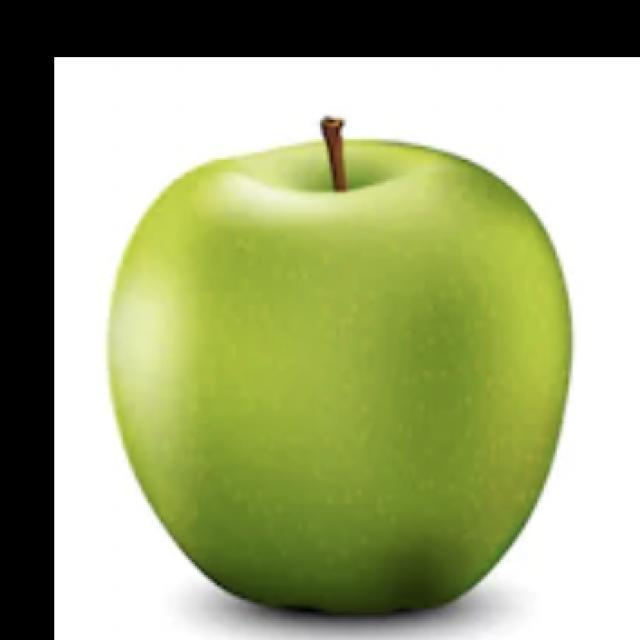Fresh Apple: (134, 138, 568, 627)
